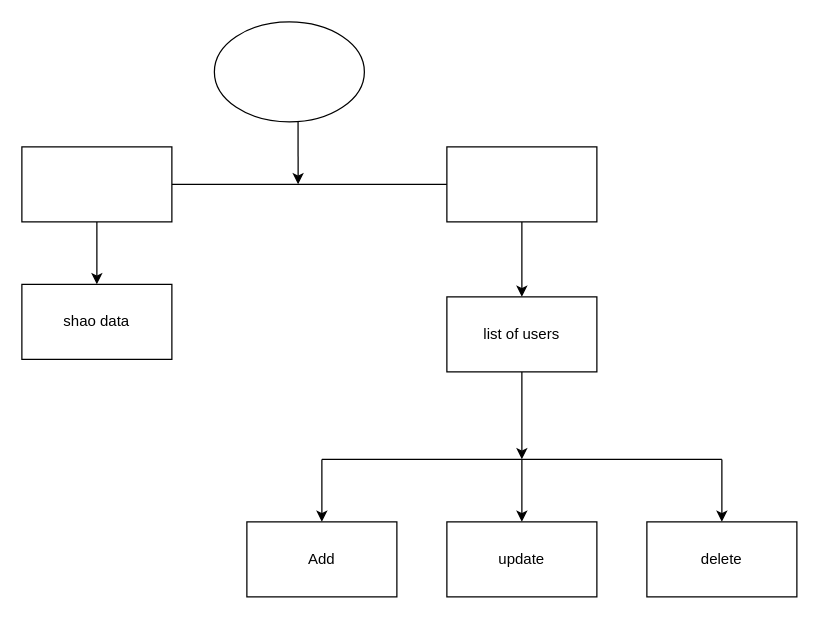
The diagram is 819 pixels wide and 619 high, and some of its shapes have lost their labels. Here are the shapes that lost their labels. From the top down, the centre of each, then its label:
pixel 288 71: log in
pixel 96 184: user
pixel 521 184: admin
